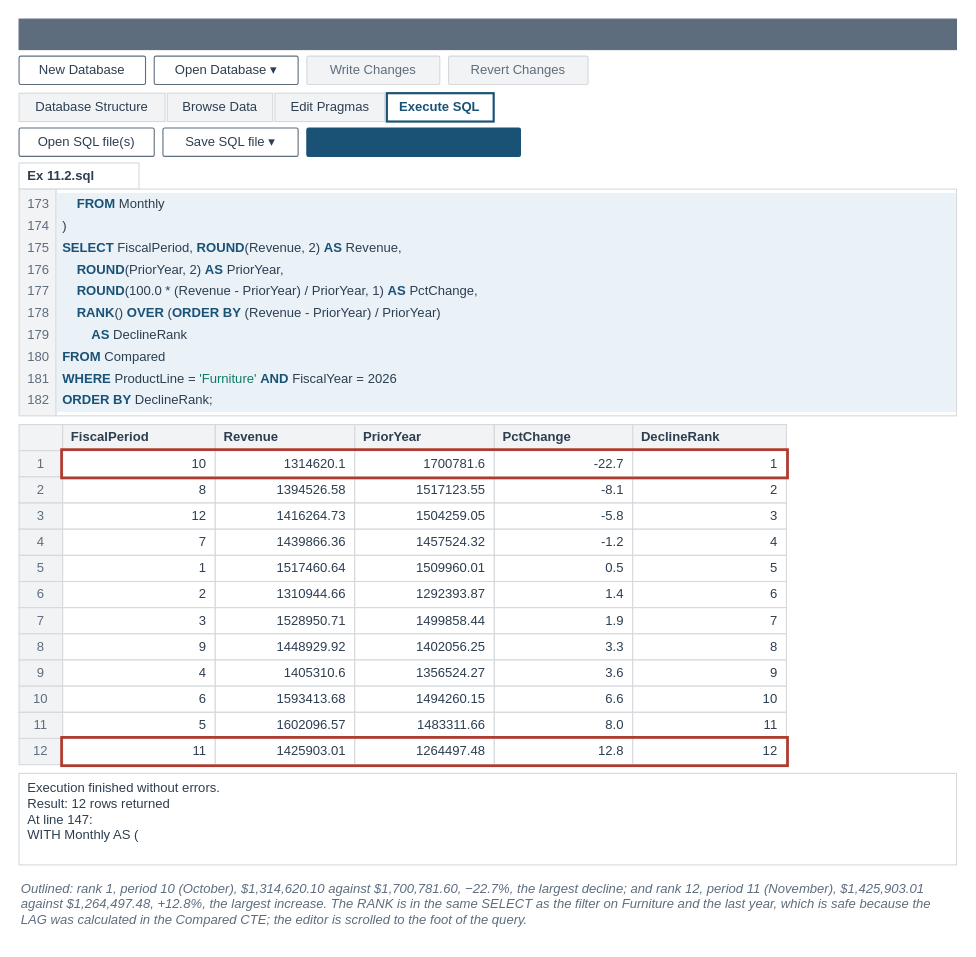
This 976x957 diagram has some shape labels left out. Here are the shapes that lost their labels. From the top down, the centre of each, then its label:
pixel 487 34: DB Browser for SQLite - C:\Users\you\Documents\CharlesRiver_Work.sqlite
pixel 413 141: ▶ Execute all/selected SQL
